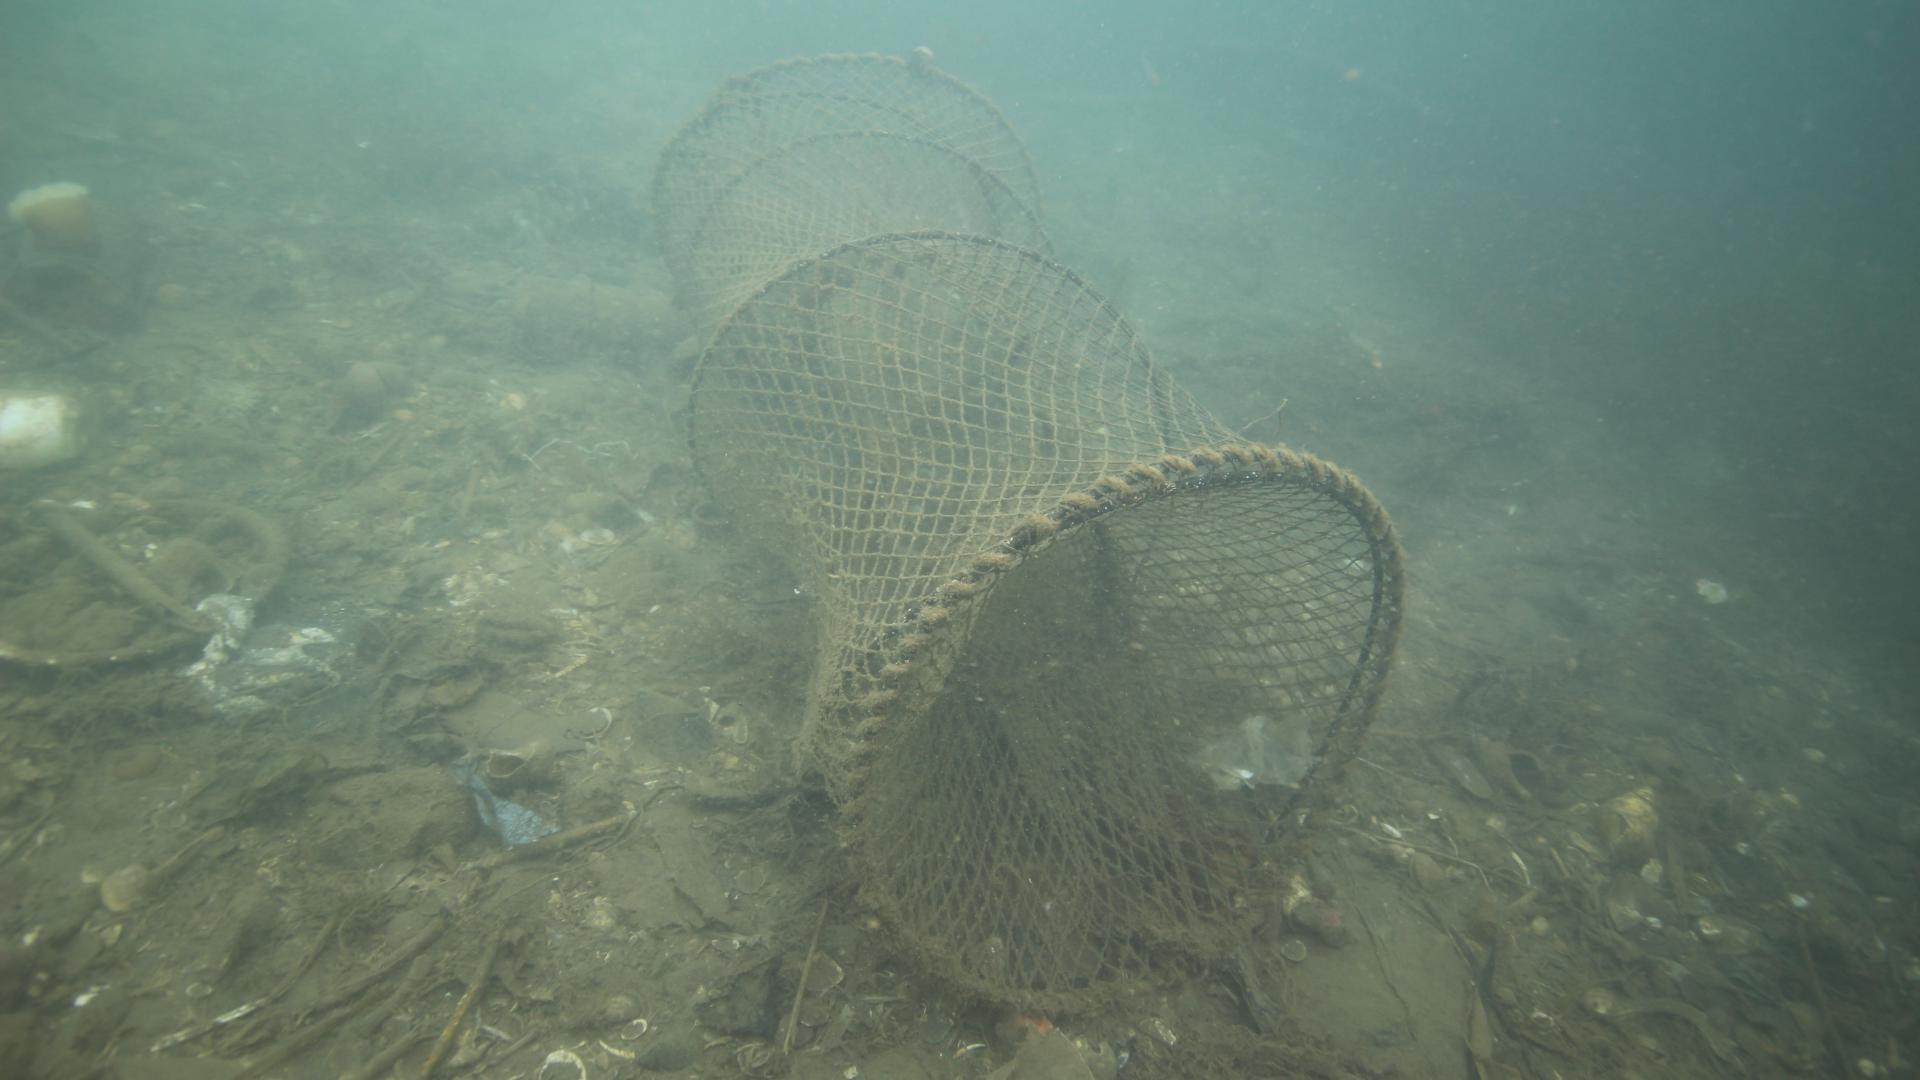spring fish trap: (644, 50, 1404, 1013)
